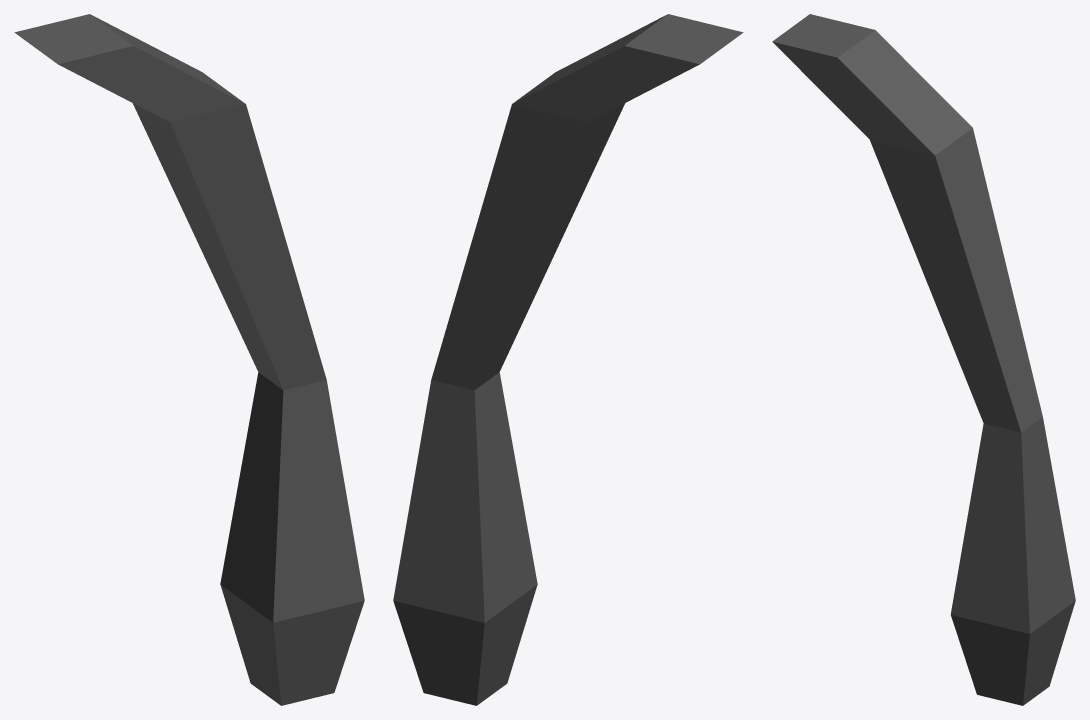
The model's file is Spider leg.fbx.
3 views of the same model, side by side, from view 1: azimuth 30°, elevation 25°; view 2: azimuth 150°, elevation 25°; view 3: azimuth 330°, elevation 25° (orthographic). The views are drawn at different scales.
Parts seen in each view (by area): view 1: Cube; view 2: Cube; view 3: Cube.
Part boxes in pixels (<box>): Cube: <box>14,14,364,705</box>; Cube: <box>393,14,743,705</box>; Cube: <box>772,14,1075,705</box>.
Size of the model in its own units: 248 by 551 by 75.17.
